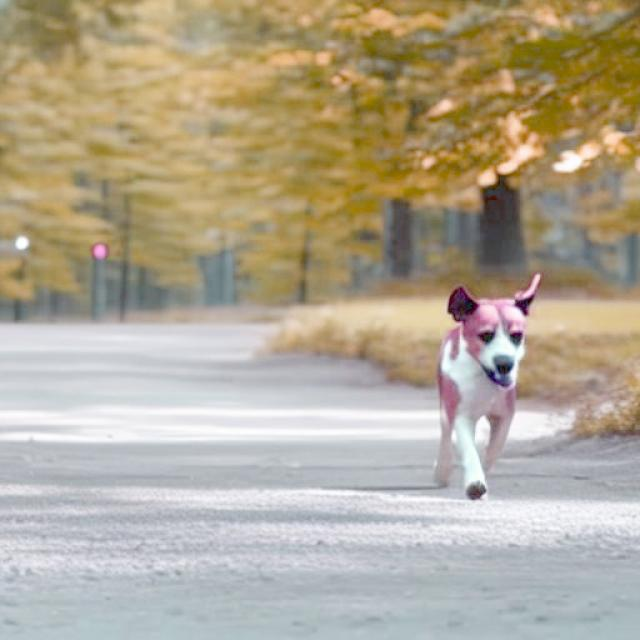Dog: (428, 275, 540, 499)
